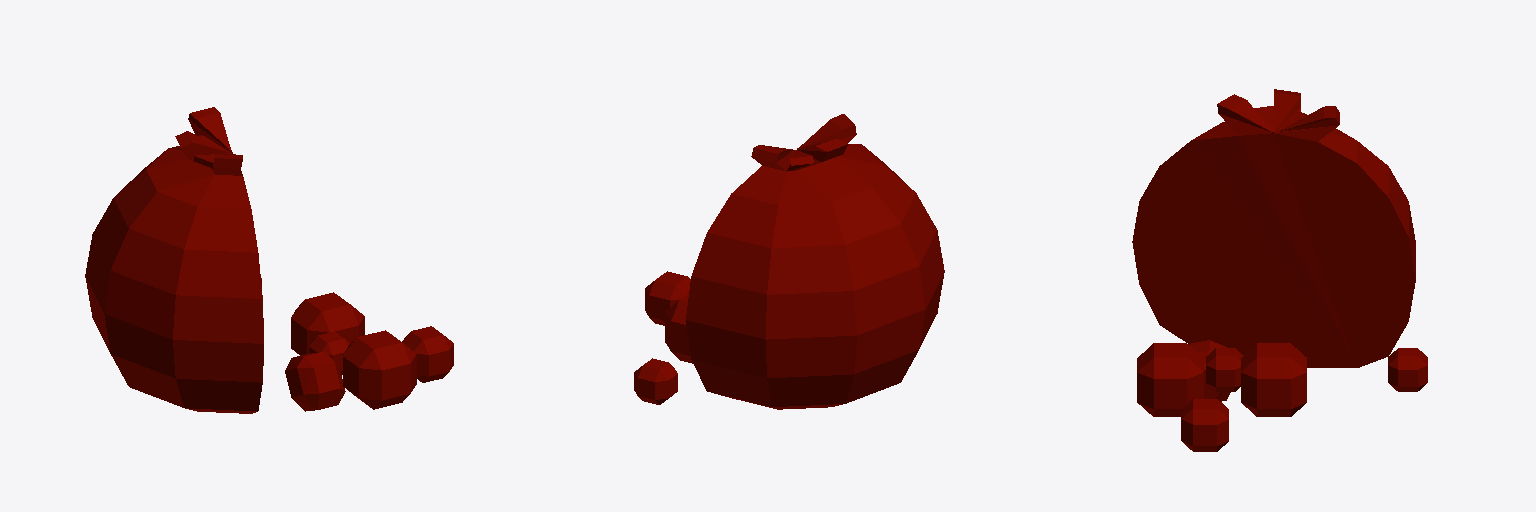
Rendered from dicedTomatoes.obj.
3 views of the same model, side by side, from view 1: azimuth 30°, elevation 25°; view 2: azimuth 150°, elevation 25°; view 3: azimuth 270°, elevation 25° (orthographic).
Parts seen in each view (by area): view 1: pSphere1 group1, group1 pCube1 polySurface2 polySurface6 polySurface8, group1 polySurface3 polySurface1 pCube1, group1 polySurface1 pCube1 polySurface4, group1 pCube1 polySurface2 polySurface7 polySurface6, group1 pCube1 polySurface5 polySurface2; view 2: pSphere1 group1, group1 pCube1 polySurface5 polySurface2, group1 pCube1 polySurface2 polySurface7 polySurface6, group1 polySurface3 polySurface1 pCube1; view 3: pSphere1 group1, group1 polySurface3 polySurface1 pCube1, group1 pCube1 polySurface2 polySurface6 polySurface8, group1 pCube1 polySurface5 polySurface2, group1 pCube1 polySurface2 polySurface7 polySurface6, group1 polySurface1 pCube1 polySurface4.
Part boxes in pixels (left/top/right/bottom): pSphere1 group1: left=85, top=107, right=263, bottom=413; group1 pCube1 polySurface2 polySurface6 polySurface8: left=343, top=330, right=416, bottom=409; group1 polySurface3 polySurface1 pCube1: left=291, top=292, right=364, bottom=355; group1 polySurface1 pCube1 polySurface4: left=285, top=351, right=345, bottom=411; group1 pCube1 polySurface2 polySurface7 polySurface6: left=402, top=326, right=453, bottom=382; group1 pCube1 polySurface5 polySurface2: left=261, top=278, right=350, bottom=374; pSphere1 group1: left=686, top=114, right=944, bottom=409; group1 pCube1 polySurface5 polySurface2: left=634, top=358, right=677, bottom=404; group1 pCube1 polySurface2 polySurface7 polySurface6: left=645, top=271, right=690, bottom=325; group1 polySurface3 polySurface1 pCube1: left=665, top=294, right=692, bottom=363; pSphere1 group1: left=1132, top=89, right=1415, bottom=367; group1 polySurface3 polySurface1 pCube1: left=1241, top=343, right=1306, bottom=416; group1 pCube1 polySurface2 polySurface6 polySurface8: left=1137, top=343, right=1203, bottom=416; group1 pCube1 polySurface5 polySurface2: left=1206, top=348, right=1427, bottom=391; group1 pCube1 polySurface2 polySurface7 polySurface6: left=1181, top=399, right=1228, bottom=451; group1 polySurface1 pCube1 polySurface4: left=1189, top=340, right=1230, bottom=401.
Bounding box in the file's own units: 2.4 × 1.95 × 1.98.